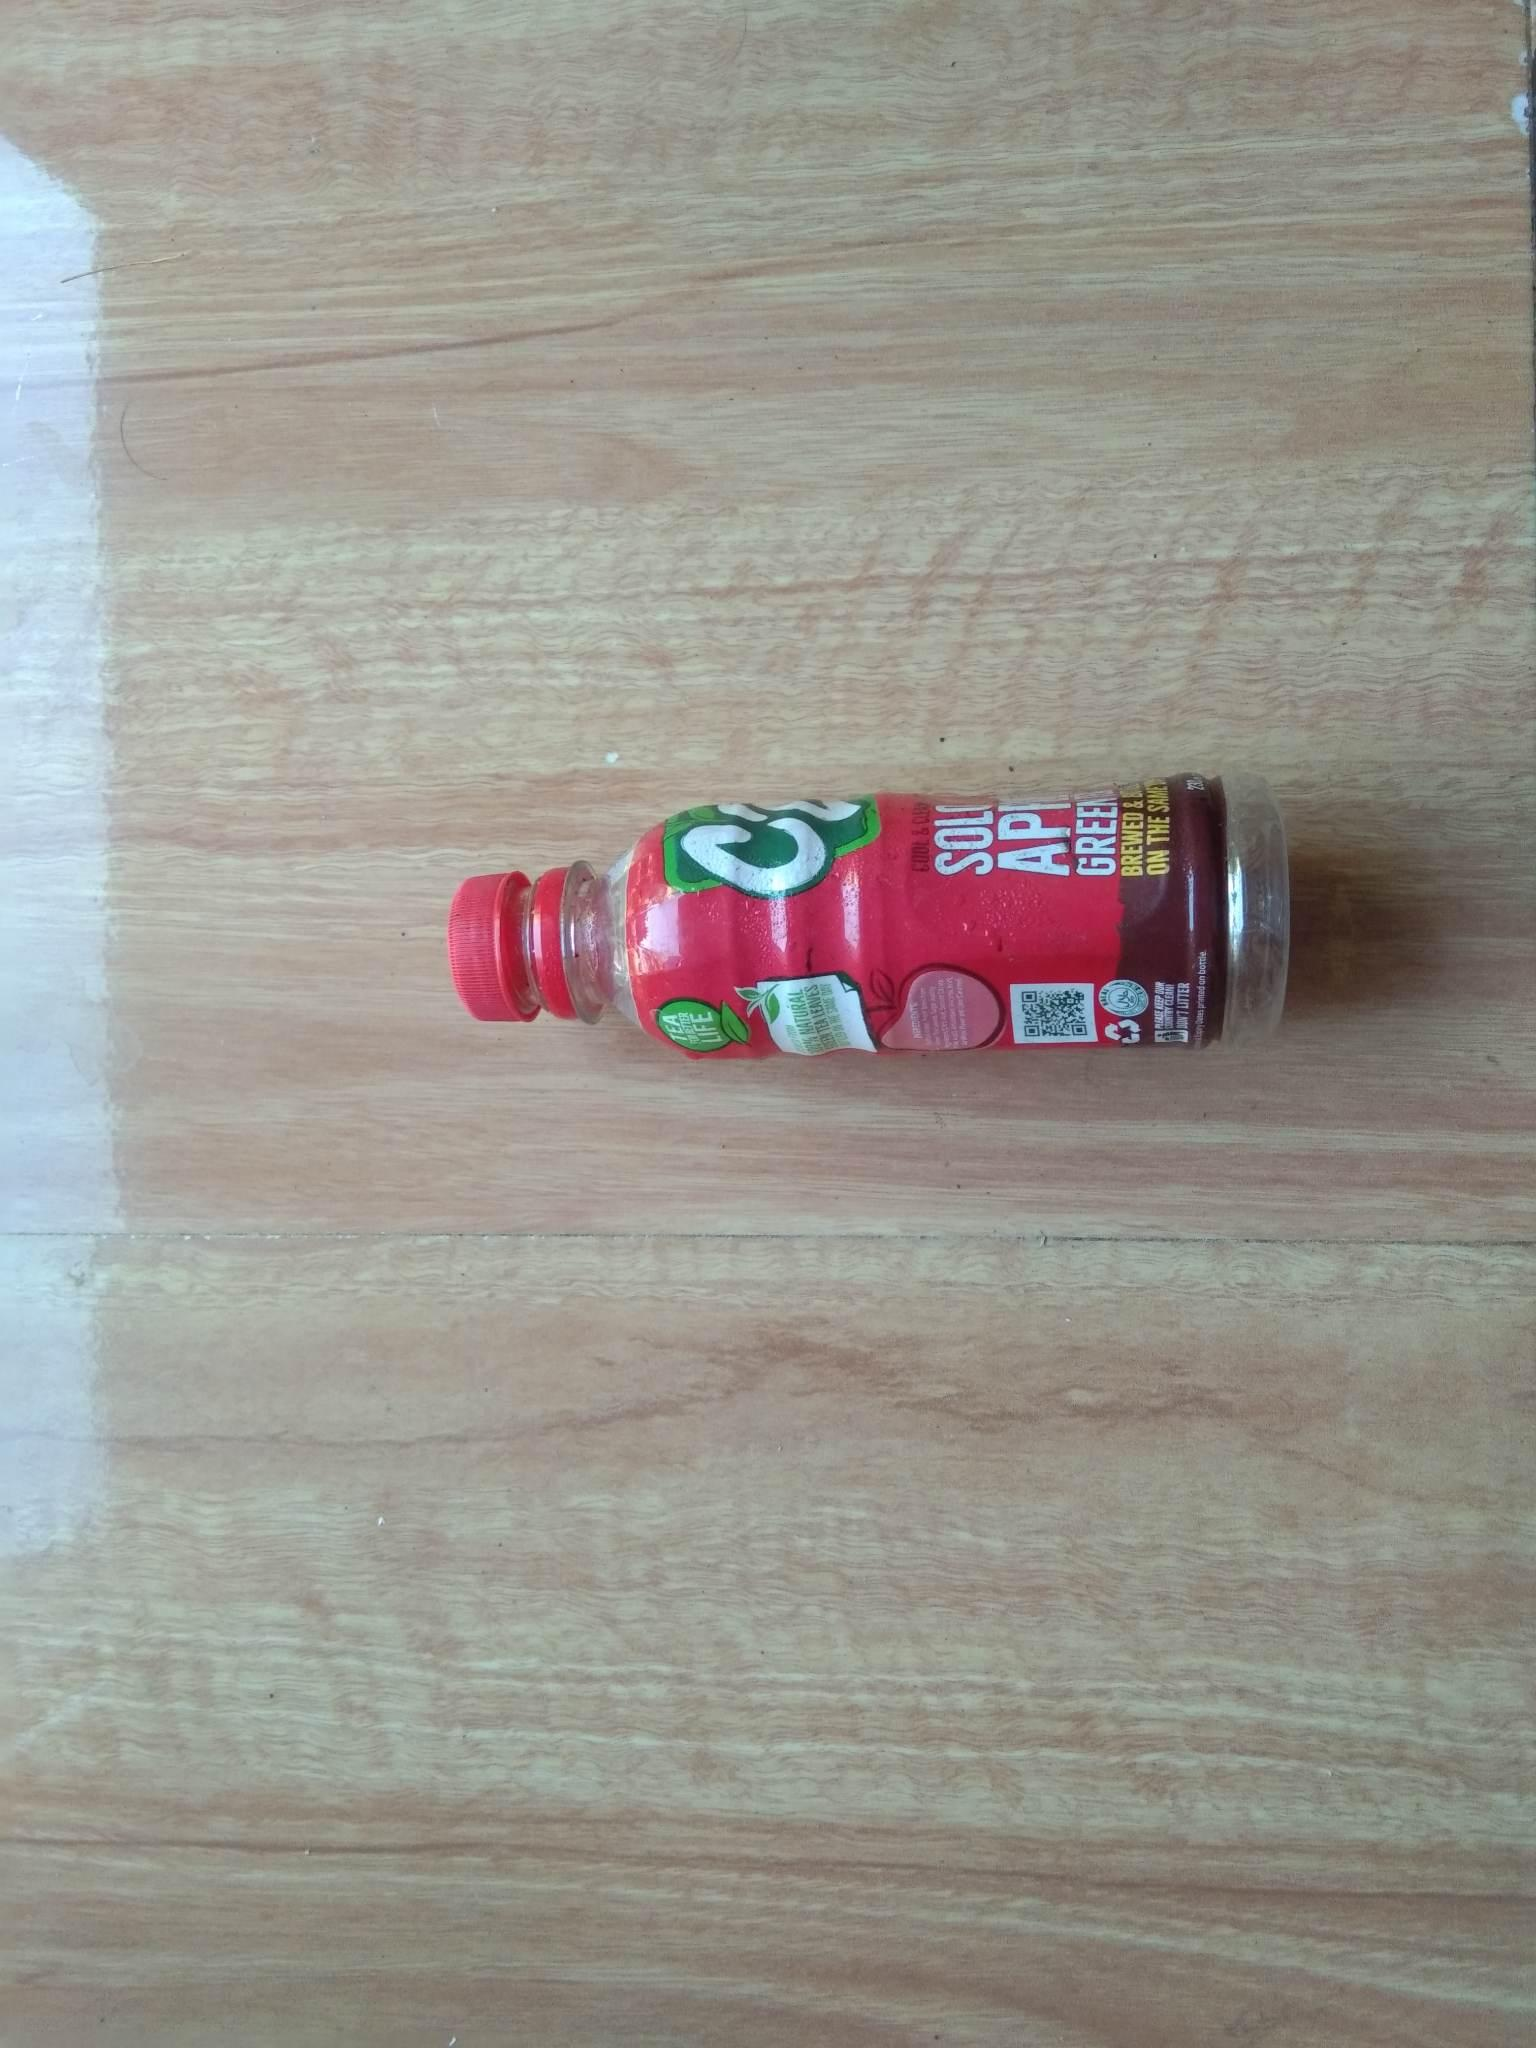plastic: (282, 714, 1383, 1184)
